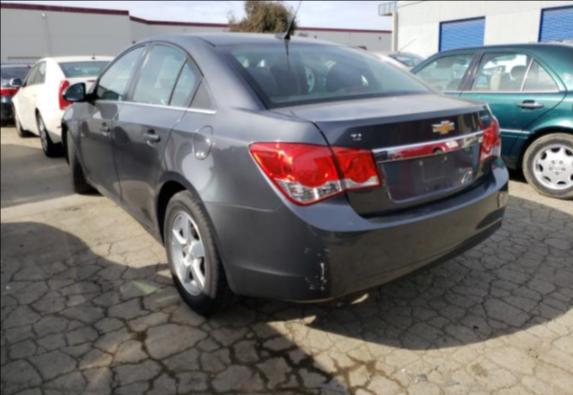Dent: (320, 262, 325, 279), (320, 280, 326, 290), (309, 284, 315, 290), (303, 247, 309, 253), (324, 249, 329, 252), (316, 253, 320, 256), (315, 283, 320, 285), (305, 277, 308, 280), (314, 275, 318, 277)
Missing part: (416, 152, 453, 181)
